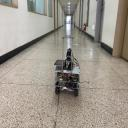cart: (54, 62, 80, 96)
